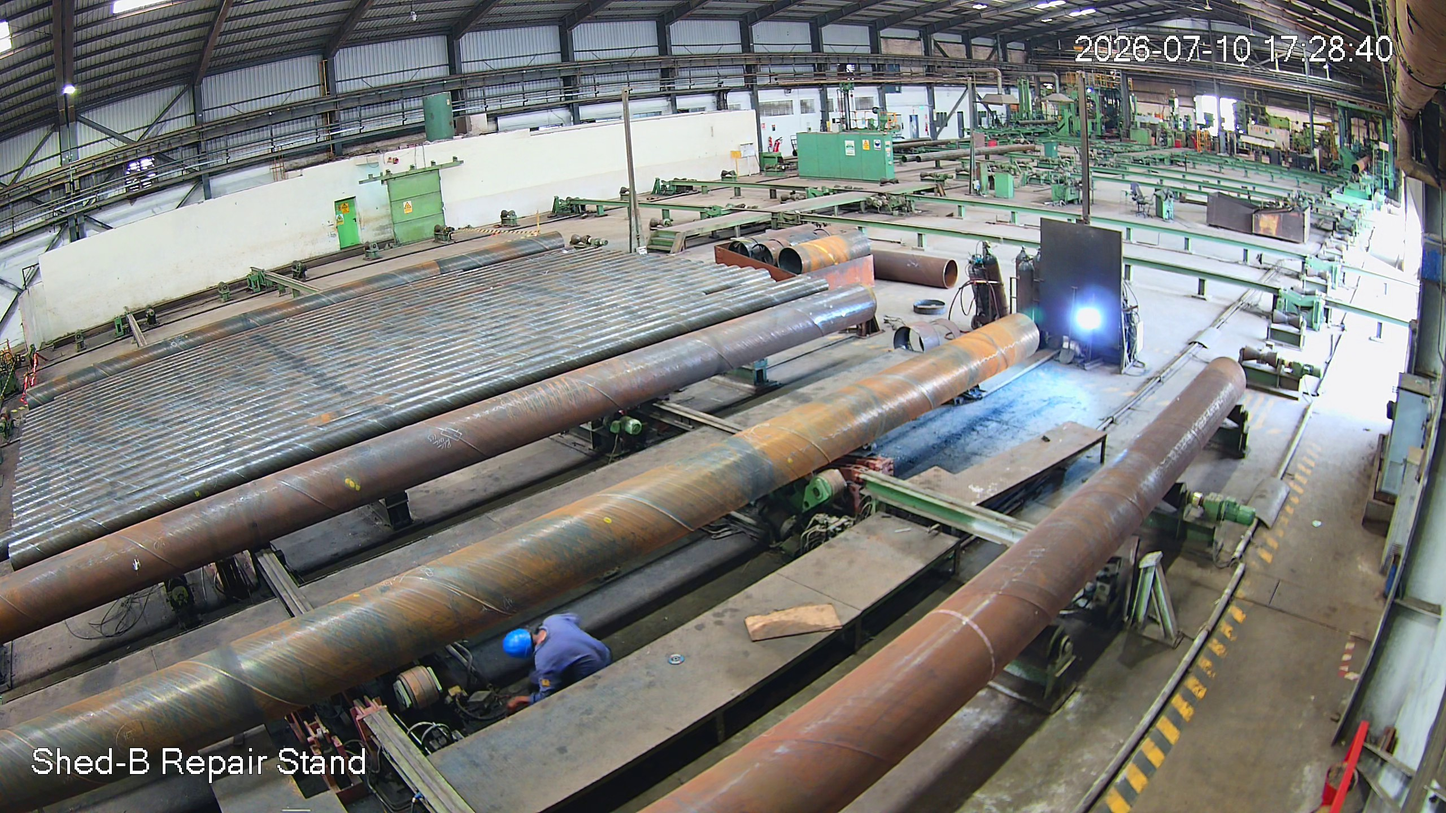Helmet: (498, 617, 544, 678)
Person: (504, 609, 619, 716)
